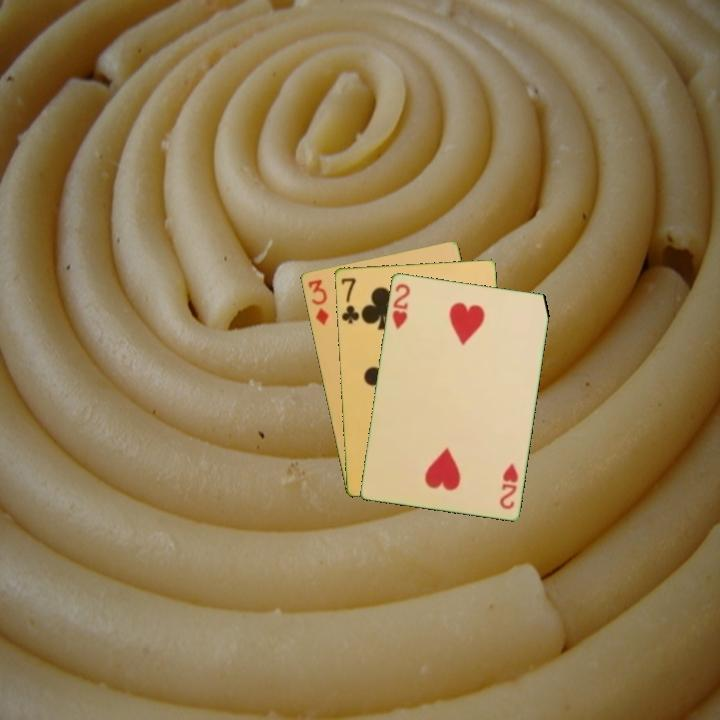2h: (388, 280, 413, 332), (496, 460, 521, 512)
3d: (304, 276, 331, 328)
7c: (337, 274, 362, 326)
